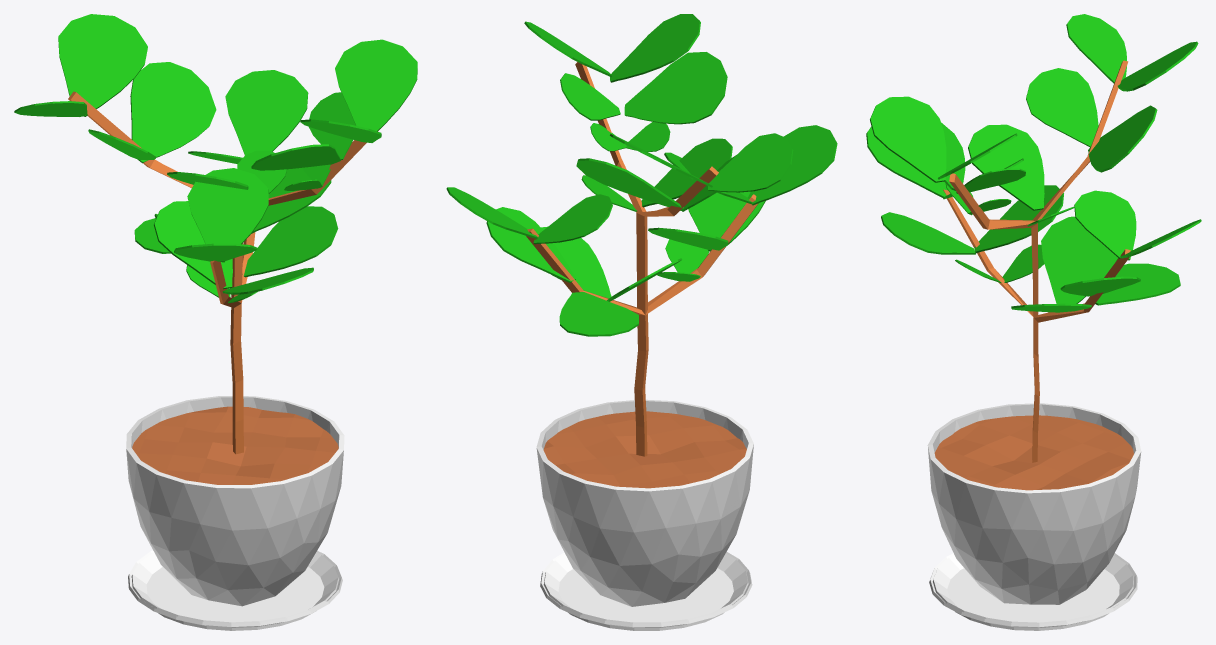
File: planta.fbx
The picture shows the model from 3 angles, left to right: view 1: azimuth 30°, elevation 25°; view 2: azimuth 150°, elevation 25°; view 3: azimuth 270°, elevation 25°; orthographic projection. The views are drawn at different scales.
Parts seen in each view (by area): view 1: 1; view 2: 1; view 3: 1.
Boxes of the visible parts, left/top/right/bottom form: 1: left=14, top=14, right=417, bottom=630; 1: left=446, top=14, right=837, bottom=630; 1: left=866, top=14, right=1201, bottom=630.
Size of the model in its own units: 121 by 185 by 109.
